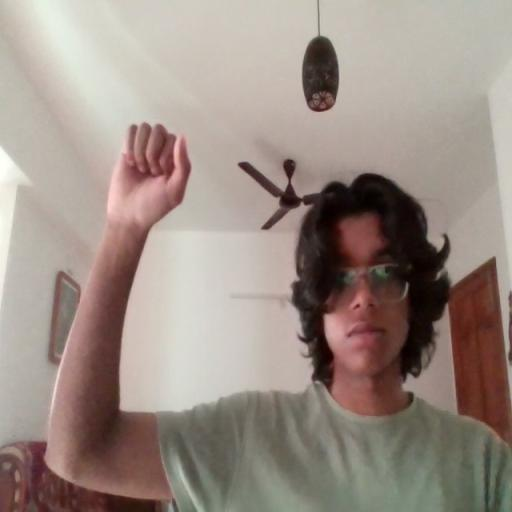Rock: (106, 122, 193, 230)
